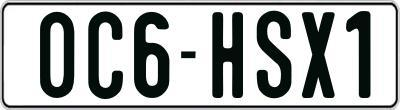0: (37, 9, 71, 99)
1: (345, 11, 370, 99)
6: (134, 9, 171, 97)
C: (86, 11, 126, 103)
H: (211, 10, 244, 101)
S: (255, 11, 289, 98)
X: (300, 9, 335, 101)
